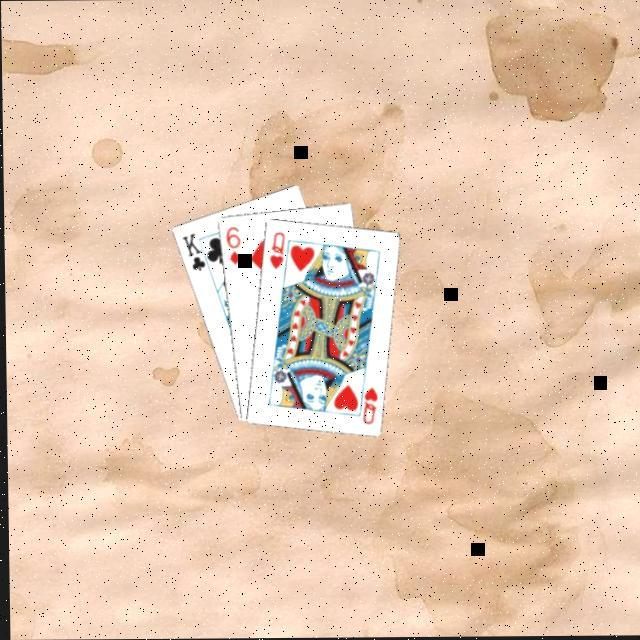6D: (222, 224, 244, 268)
KC: (178, 231, 214, 275)
QH: (353, 379, 380, 428), (265, 229, 288, 273)
